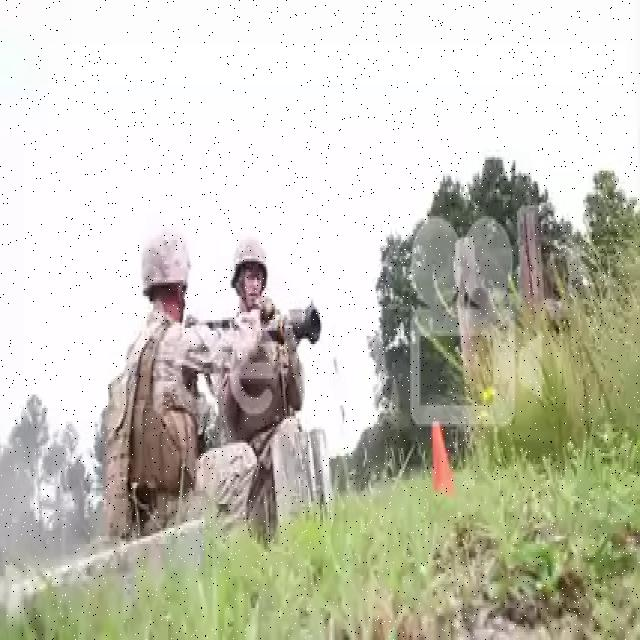bazooka: (208, 300, 327, 346)
